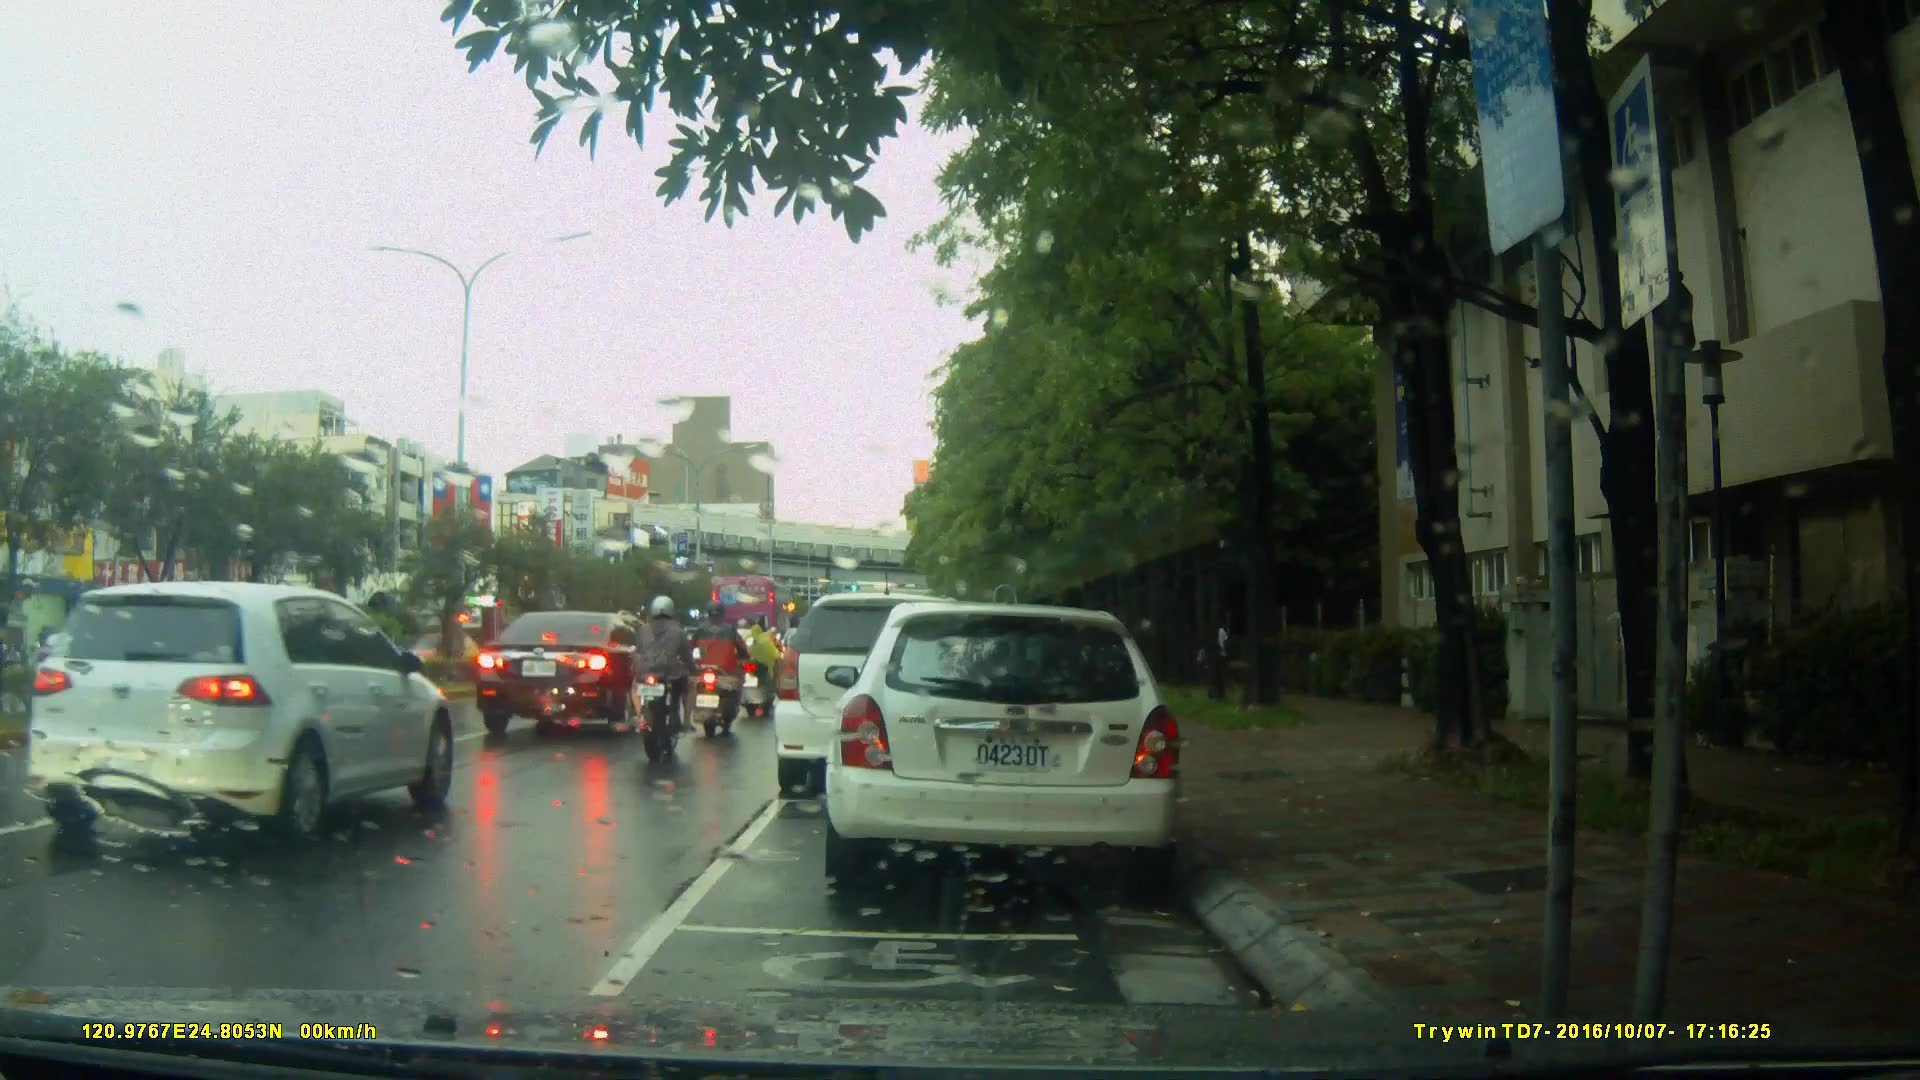pedestrian: (1211, 617, 1235, 691)
rider: (630, 593, 696, 777), (695, 596, 753, 744), (738, 609, 783, 725)
vehicle: (17, 577, 456, 848), (835, 594, 1194, 898), (776, 590, 1026, 784), (475, 608, 679, 745), (707, 573, 796, 649)
